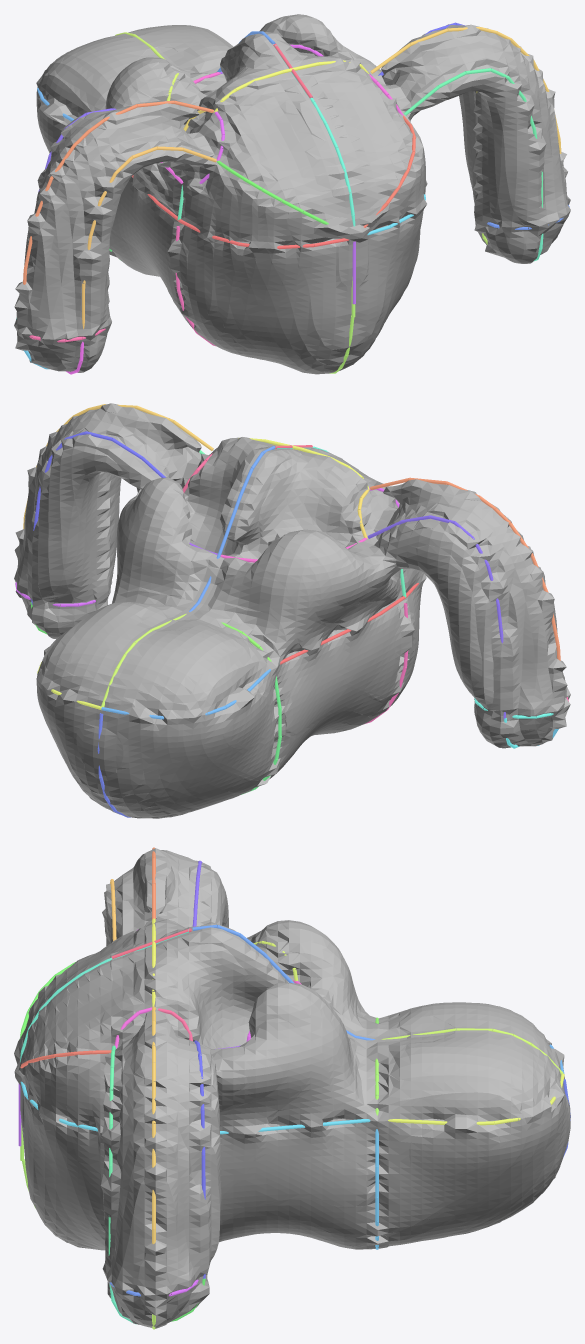
Rendered from scaffolds3d_dog.gltf.
3 renders of one model, top to bottom at view 1: azimuth 30°, elevation 25°; view 2: azimuth 150°, elevation 25°; view 3: azimuth 270°, elevation 25°, orthographic. The views are drawn at different scales.
Size of the model in its own units: 0.7359 by 0.3768 by 0.596.
